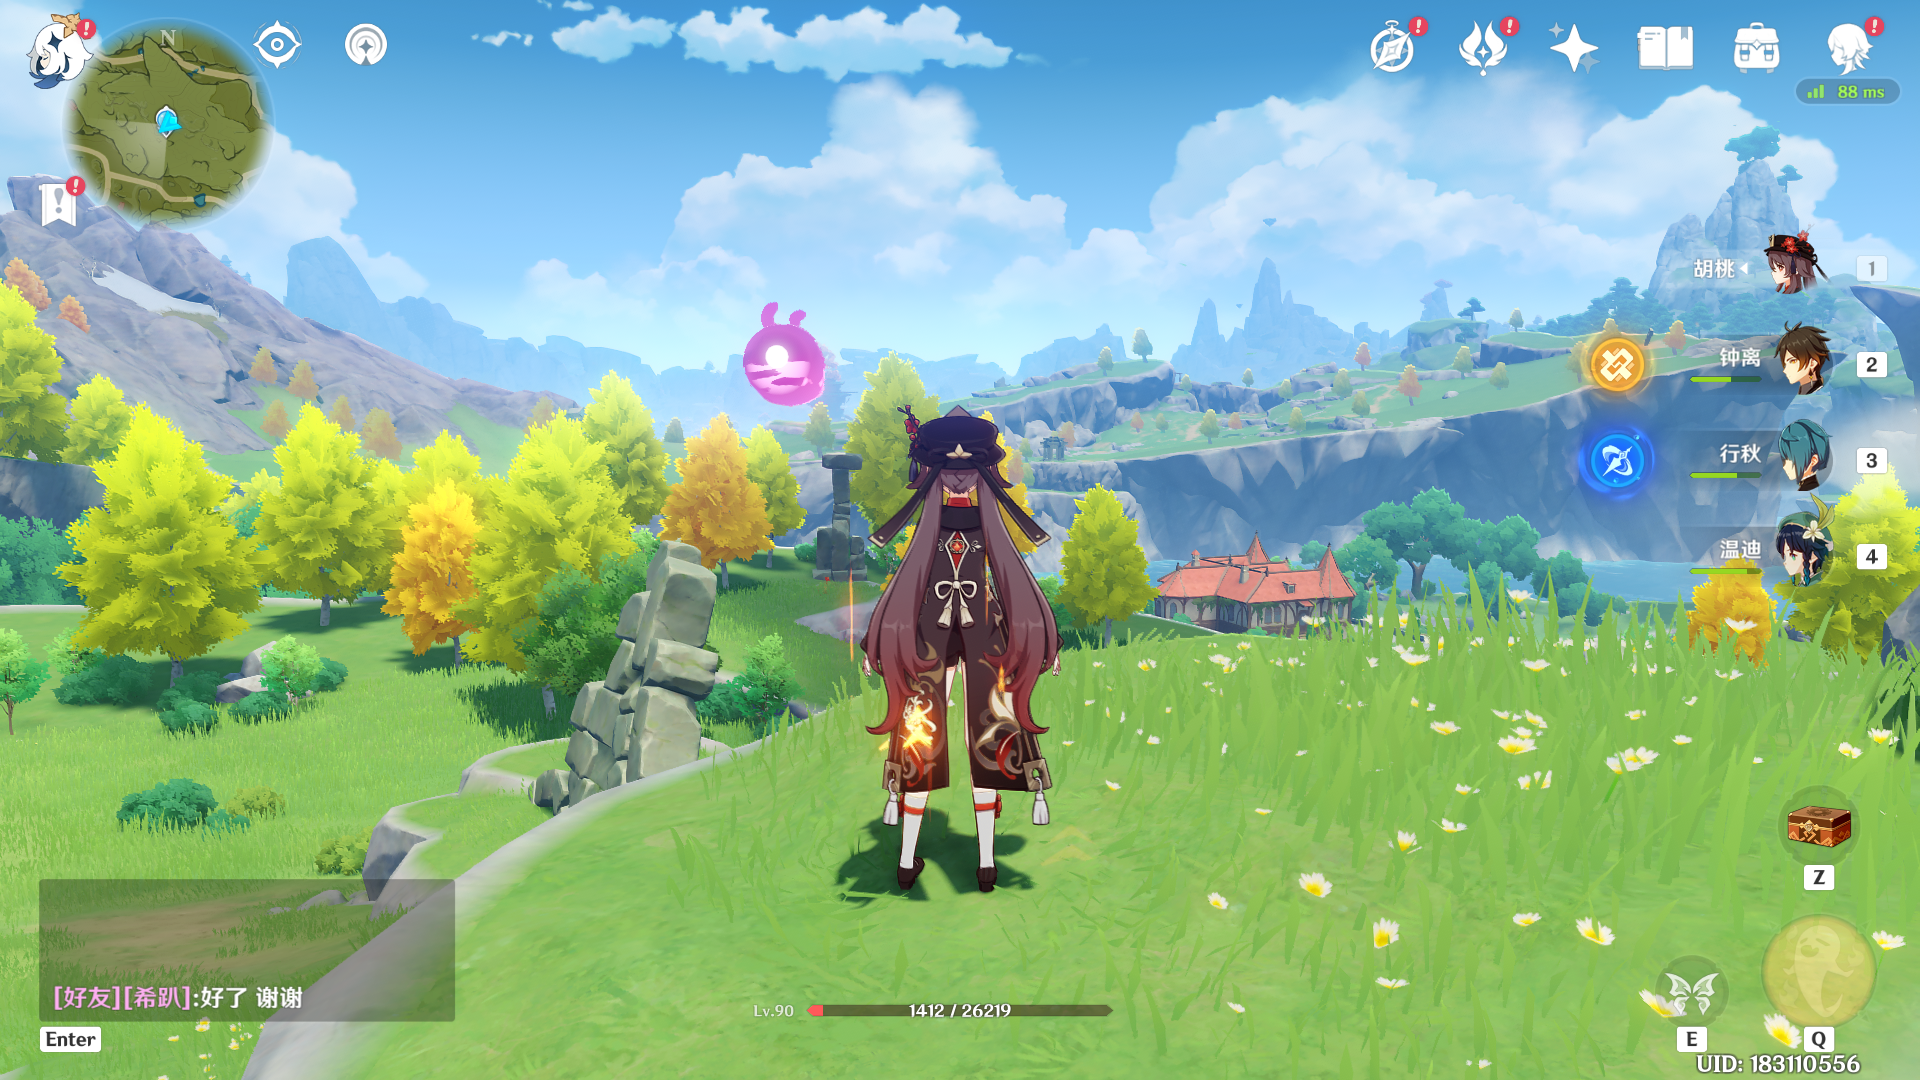character: (823, 363, 1087, 913)
